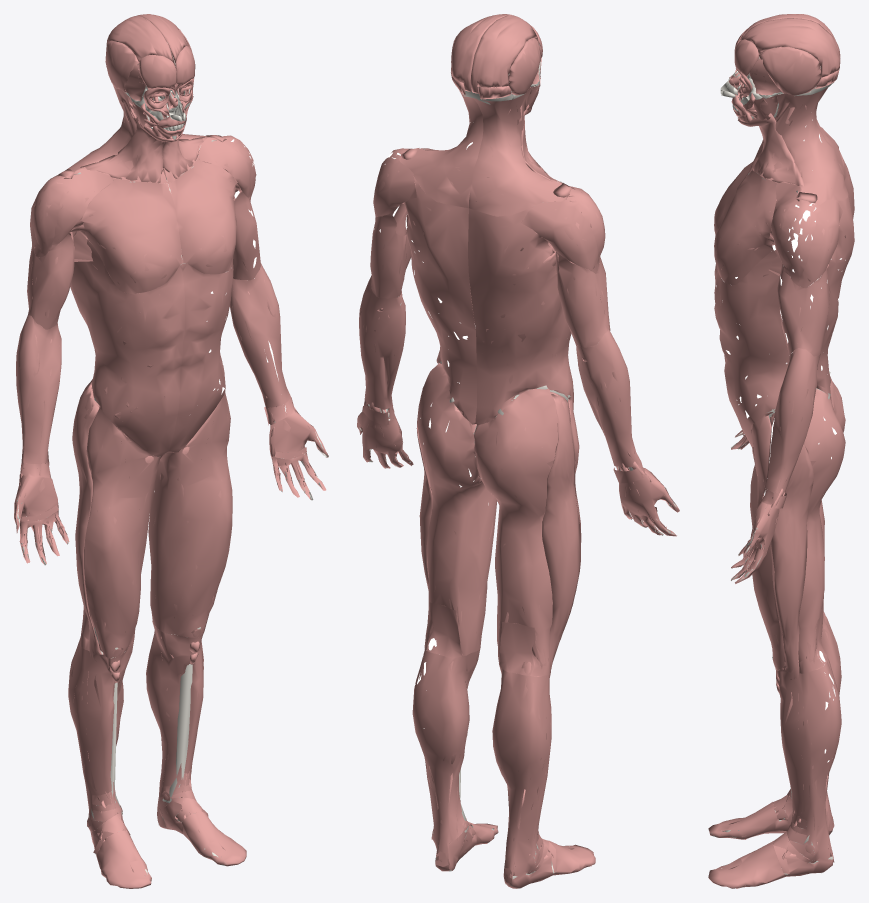
Rendered from anatomy-body.glb.
3 views of the same model, side by side, from view 1: azimuth 30°, elevation 25°; view 2: azimuth 150°, elevation 25°; view 3: azimuth 270°, elevation 25° (orthographic). The views are drawn at different scales.
Visible parts, largest first — view 1: muscle_body, skeleton; view 2: muscle_body, skeleton; view 3: muscle_body, skeleton.
Part boxes in pixels (x1,y1,x2,y2): muscle_body: (14,14,328,888); skeleton: (16,55,327,874); muscle_body: (357,14,679,888); skeleton: (359,44,676,888); muscle_body: (708,14,854,888); skeleton: (710,37,833,874).
Size of the model in its own units: 0.6712 by 1.7 by 0.269.
